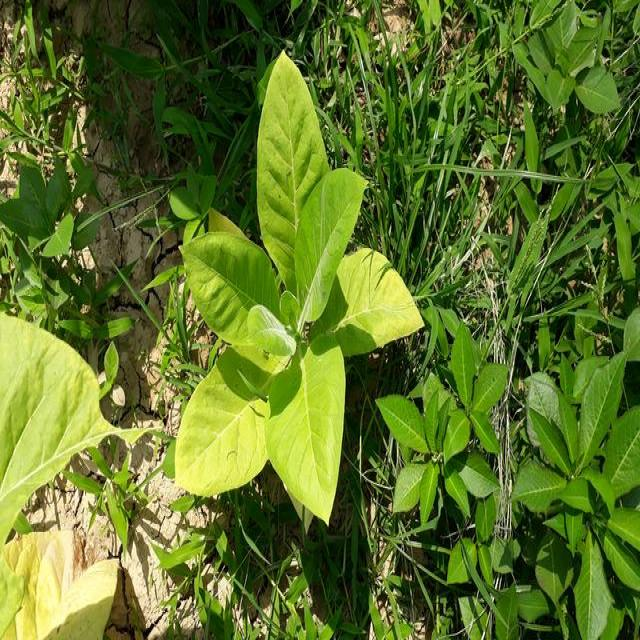crop: (160, 68, 424, 530), (0, 308, 121, 639)
